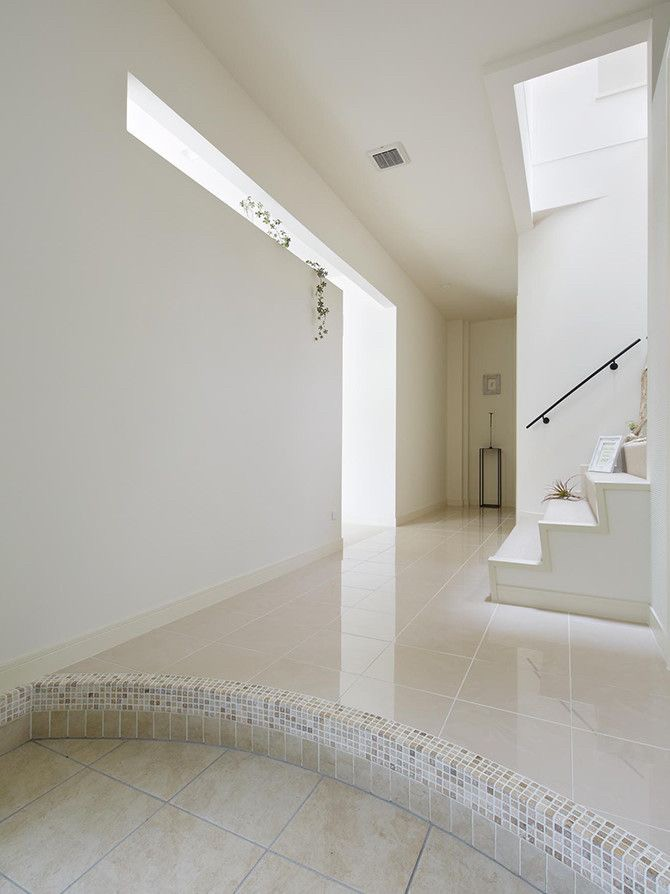floor: (0, 738, 545, 893)
